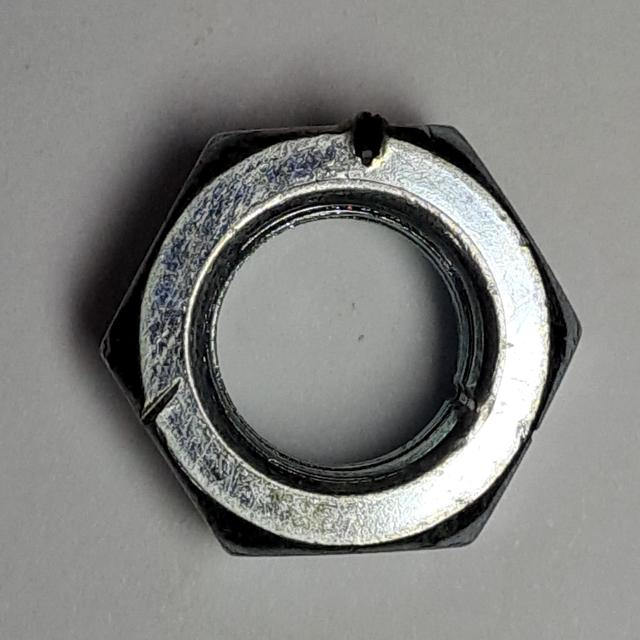Scratches: (83, 100, 595, 575)
